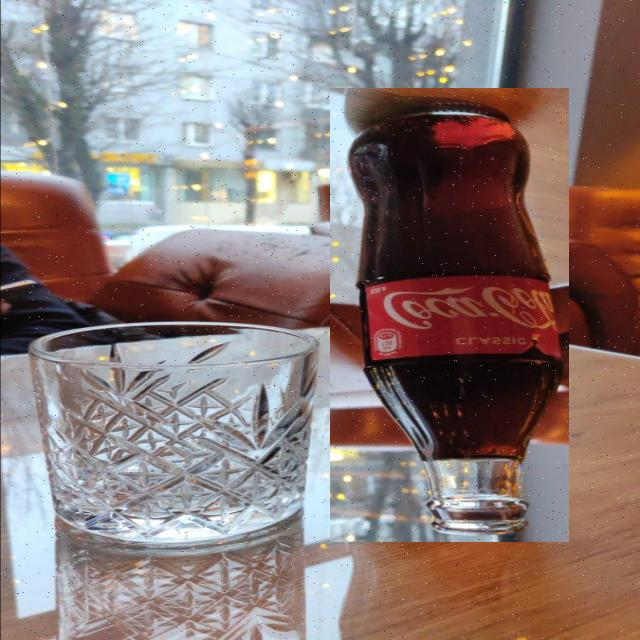coca-cola: (330, 88, 569, 542)
